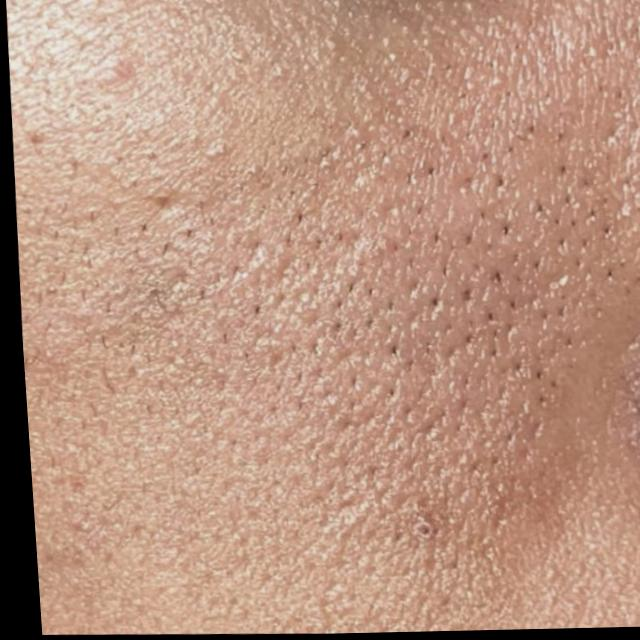blackhead: (129, 116, 633, 587)
